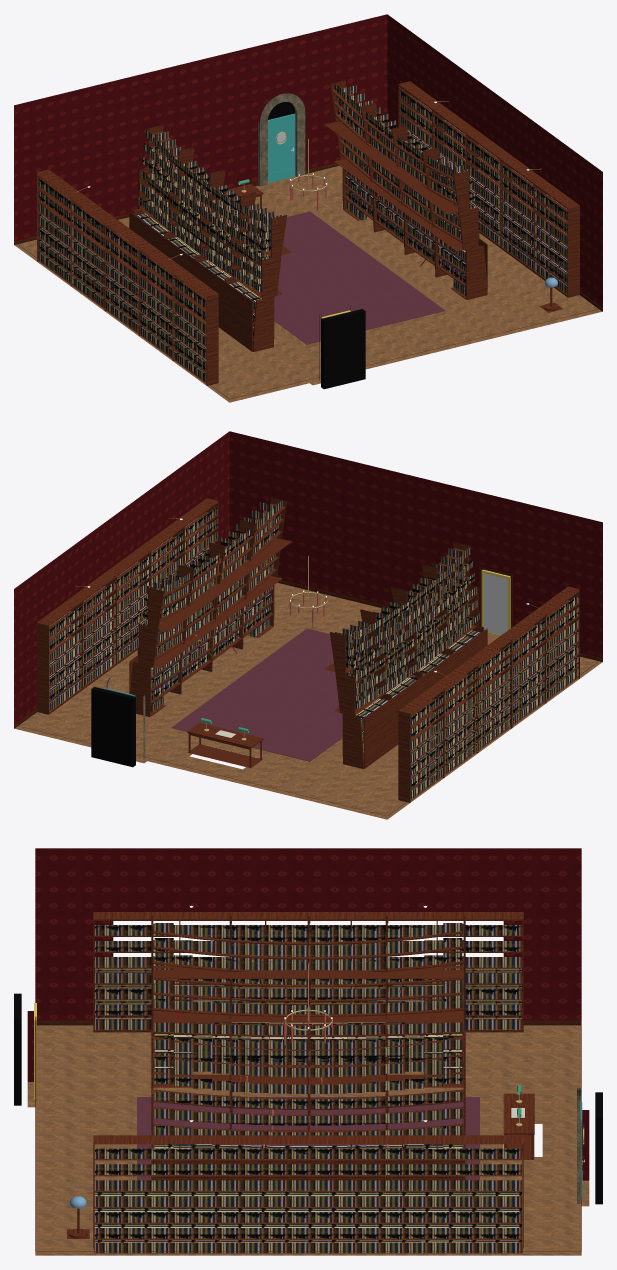
Rendered from rdwe_melting_library.glb.
3 views of the same model, one above another, from view 1: azimuth 30°, elevation 25°; view 2: azimuth 150°, elevation 25°; view 3: azimuth 270°, elevation 25° (orthographic). The views are drawn at different scales.
Visible parts, largest first — view 1: Paper_Oxblood, Book_Spines, Shelf_Wood, Floor_Parquet, Rug_Red, Void_Black, Stone, DoorLeaf_arch, Trim_Dark; view 2: Paper_Oxblood, Book_Spines, Shelf_Wood, Floor_Parquet, Rug_Red, Void_Black, DoorLeaf_map, Trim_Dark; view 3: Book_Spines, Paper_Oxblood, Shelf_Wood, Floor_Parquet, Rug_Red, Void_Black, Trim_Dark, Stone.
Boxes of the visible parts, <box> form: Paper_Oxblood: <box>14,14,602,311</box>; Book_Spines: <box>38,84,567,382</box>; Shelf_Wood: <box>37,80,579,385</box>; Floor_Parquet: <box>14,165,602,402</box>; Rug_Red: <box>264,211,445,344</box>; Void_Black: <box>268,102,365,389</box>; Stone: <box>258,93,305,186</box>; DoorLeaf_arch: <box>268,113,295,183</box>; Trim_Dark: <box>14,163,602,399</box>; Paper_Oxblood: <box>14,431,602,728</box>; Book_Spines: <box>49,501,578,799</box>; Shelf_Wood: <box>37,497,579,802</box>; Floor_Parquet: <box>14,582,602,819</box>; Rug_Red: <box>171,628,352,761</box>; Void_Black: <box>91,569,510,767</box>; DoorLeaf_map: <box>481,569,510,636</box>; Trim_Dark: <box>14,566,602,816</box>; Book_Spines: <box>95,923,521,1253</box>; Paper_Oxblood: <box>27,848,589,1180</box>; Shelf_Wood: <box>67,912,534,1253</box>; Floor_Parquet: <box>27,1025,589,1255</box>; Rug_Red: <box>137,1097,479,1180</box>; Void_Black: <box>14,993,602,1204</box>; Trim_Dark: <box>35,998,581,1251</box>; Stone: <box>577,1087,581,1203</box>.
Bounding box in the file's own units: 14 × 5.23 × 15.1.
Materials: 20 (9 with a texture image).
